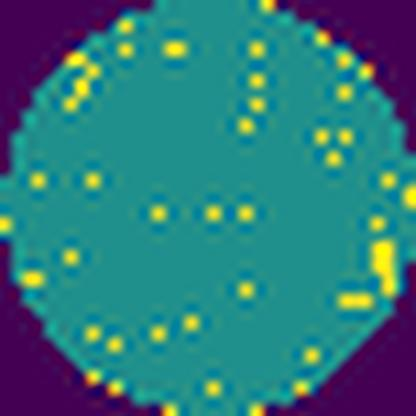Loc: (371, 238, 397, 296)
